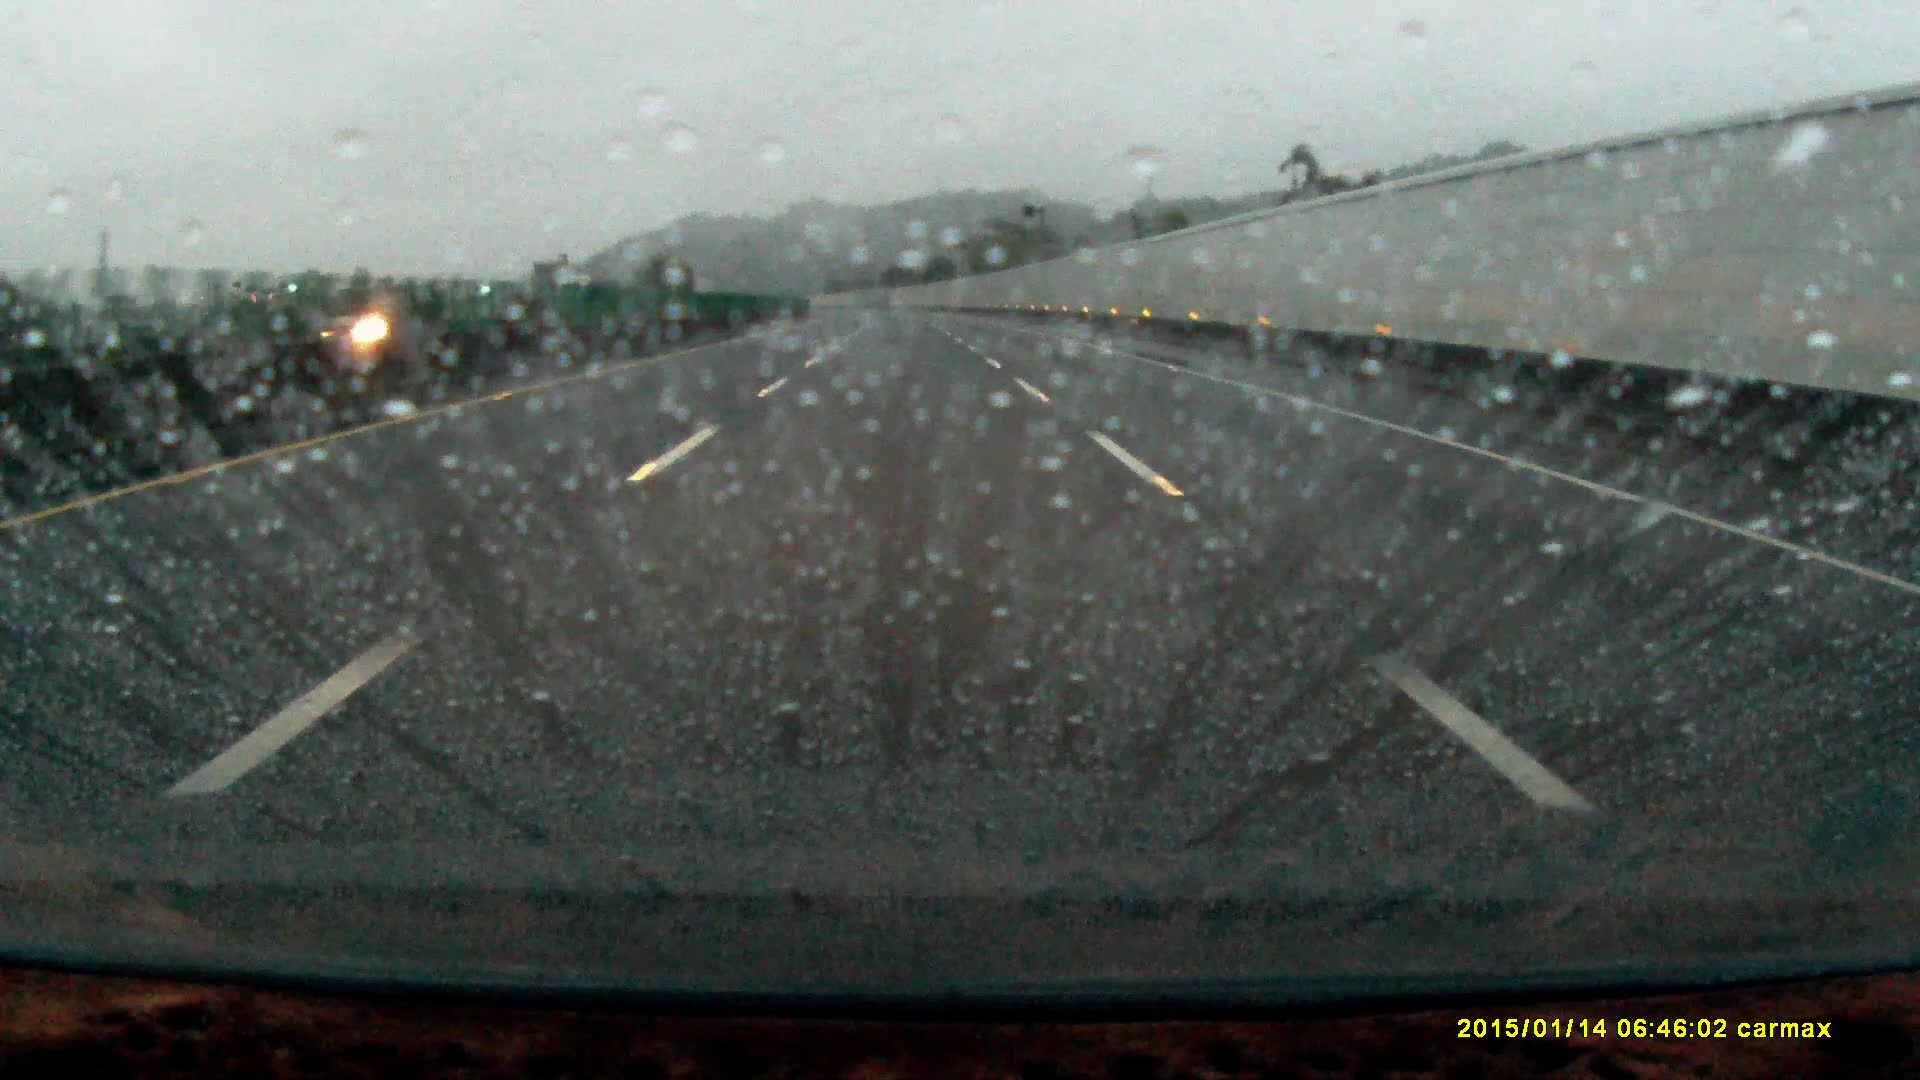vehicle: (311, 299, 411, 343)
